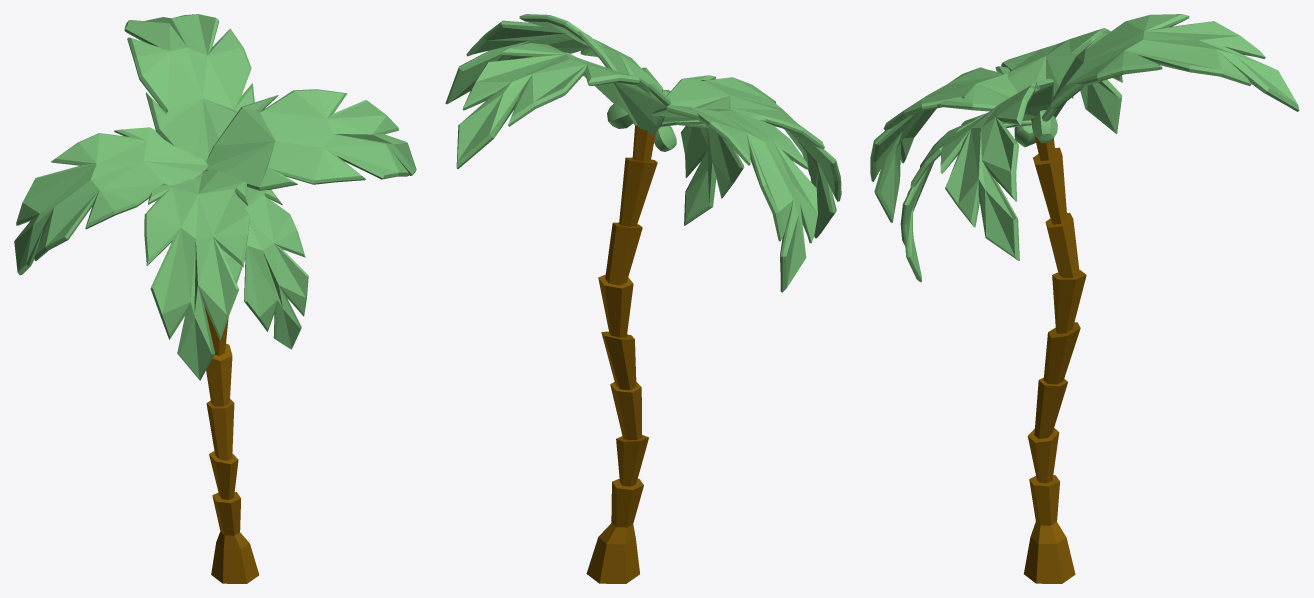
The model's file is PalmTree1.fbx.
The picture shows the model from 3 angles, left to right: view 1: azimuth 30°, elevation 25°; view 2: azimuth 150°, elevation 25°; view 3: azimuth 270°, elevation 25°; orthographic projection. The views are drawn at different scales.
Visible parts, largest first — view 1: PalmTree1; view 2: PalmTree1; view 3: PalmTree1.
Boxes of the visible parts, bbox=[...] form: PalmTree1: bbox=[14, 14, 416, 583]; PalmTree1: bbox=[445, 14, 841, 583]; PalmTree1: bbox=[870, 14, 1299, 583].
Size of the model in its own units: 141 by 189 by 137.
